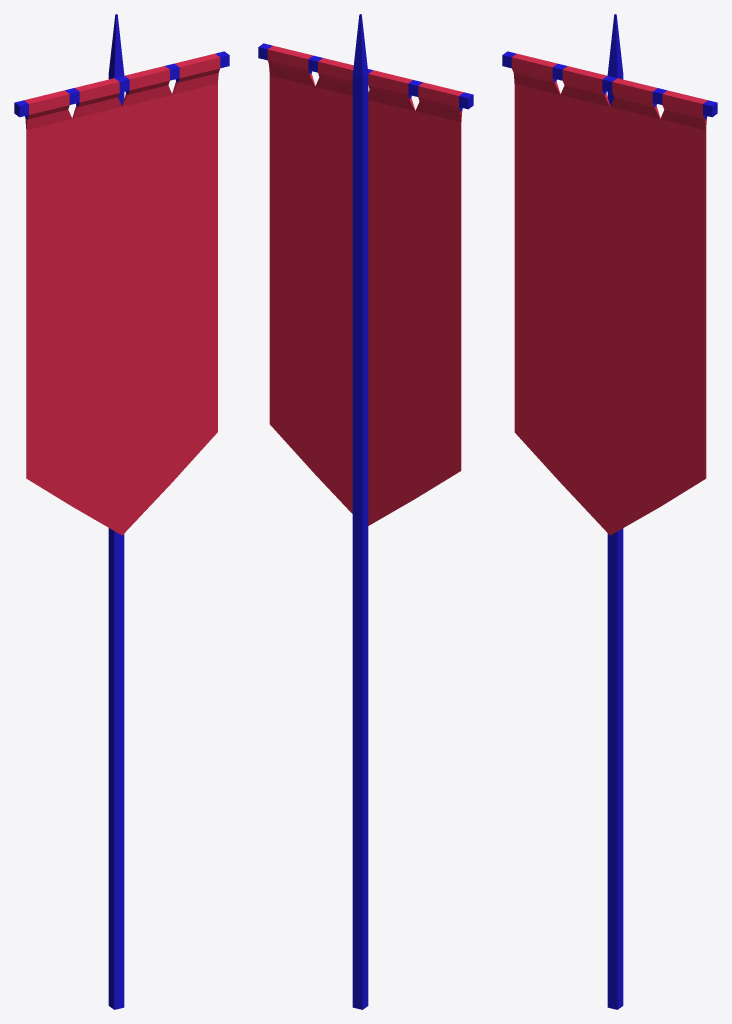
Rendered from banner.fbx.
3 renders of one model, left to right at view 1: azimuth 30°, elevation 25°; view 2: azimuth 150°, elevation 25°; view 3: azimuth 330°, elevation 25°, orthographic.
Visible parts, largest first — view 1: banner; view 2: banner; view 3: banner.
Part boxes in pixels (x1,y1,x2,y2): banner: (14, 14, 229, 1009); banner: (258, 14, 473, 1009); banner: (502, 14, 717, 1009).
Size of the model in its own units: 170 by 769 by 15.32.
